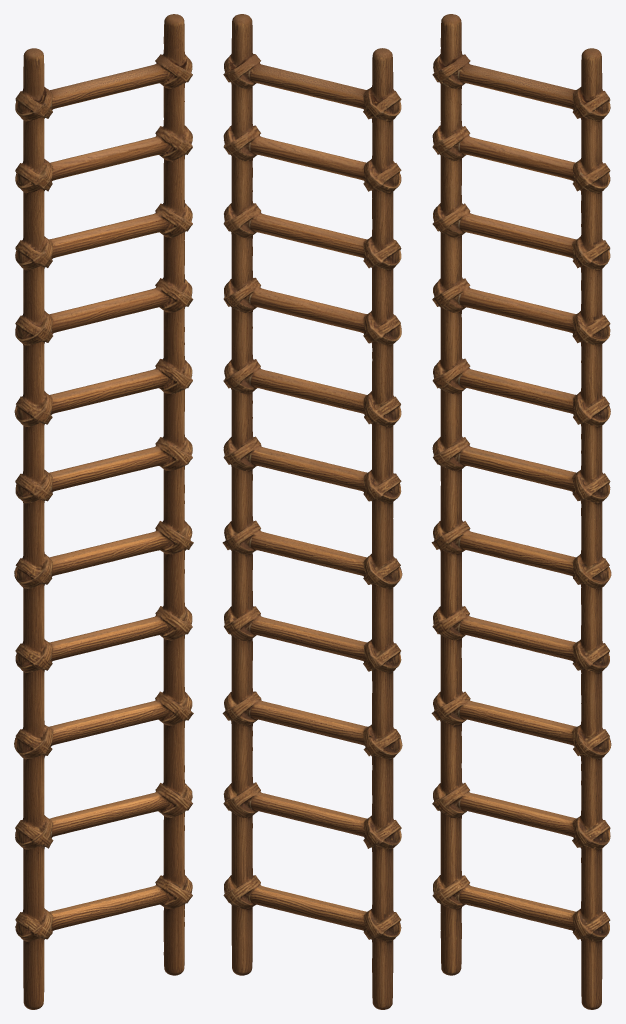
Rendered from Knotted_Ladder_1001153335.glb.
The picture shows the model from 3 angles, left to right: view 1: azimuth 30°, elevation 25°; view 2: azimuth 150°, elevation 25°; view 3: azimuth 330°, elevation 25°; orthographic projection.
Size of the model in its own units: 0.3561 by 1.9 by 0.0749.
Materials: 1 (1 with a texture image).
